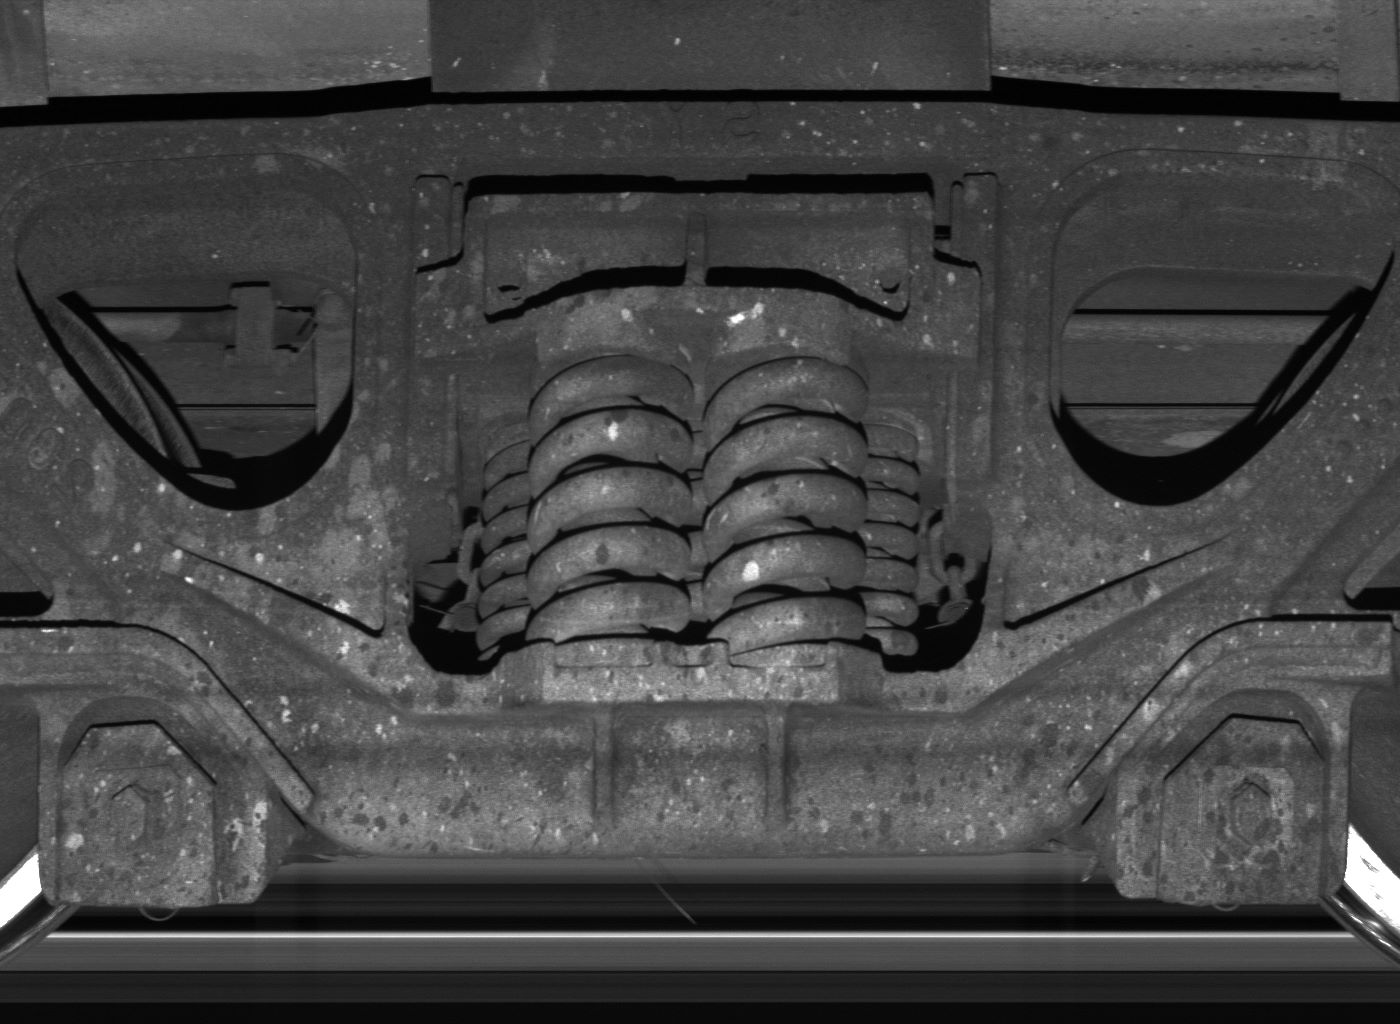normal: (1115, 690, 1347, 908), (40, 695, 264, 907)
